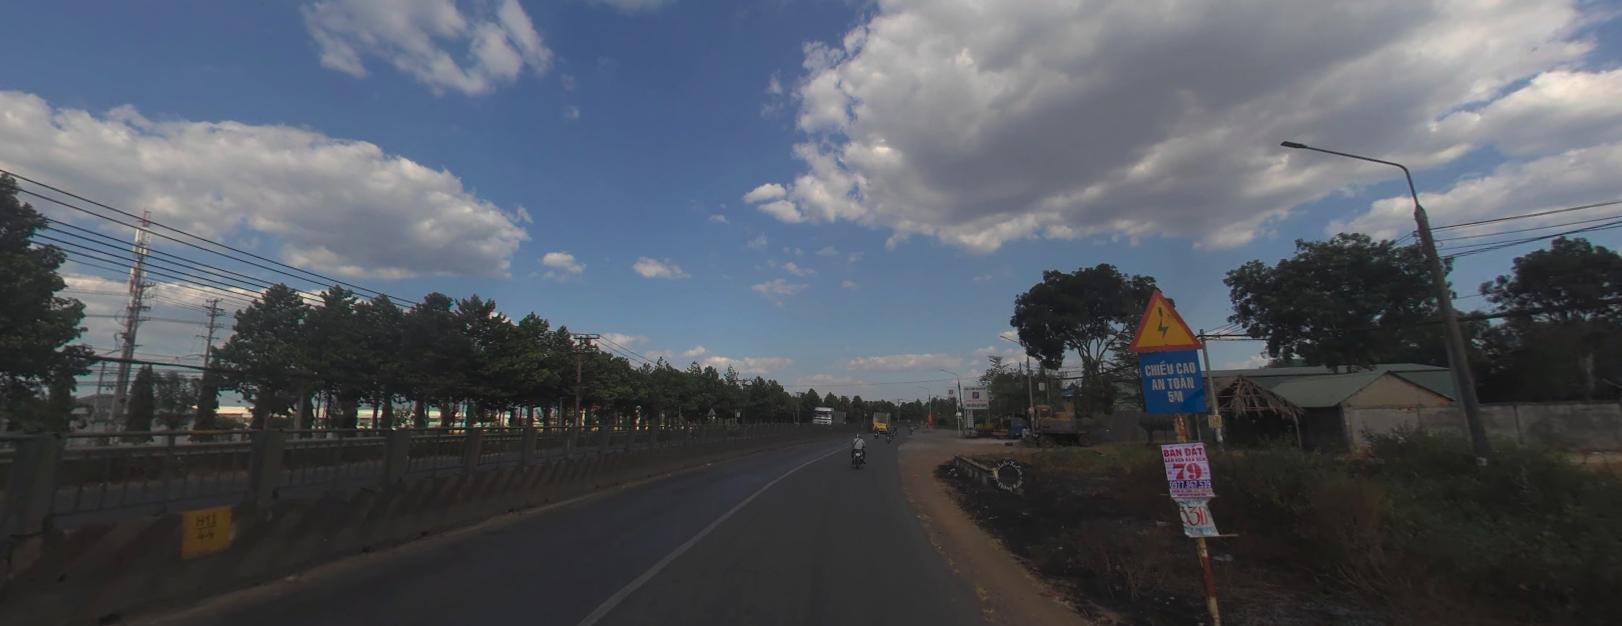Nguy hiem: (1127, 285, 1206, 349)
